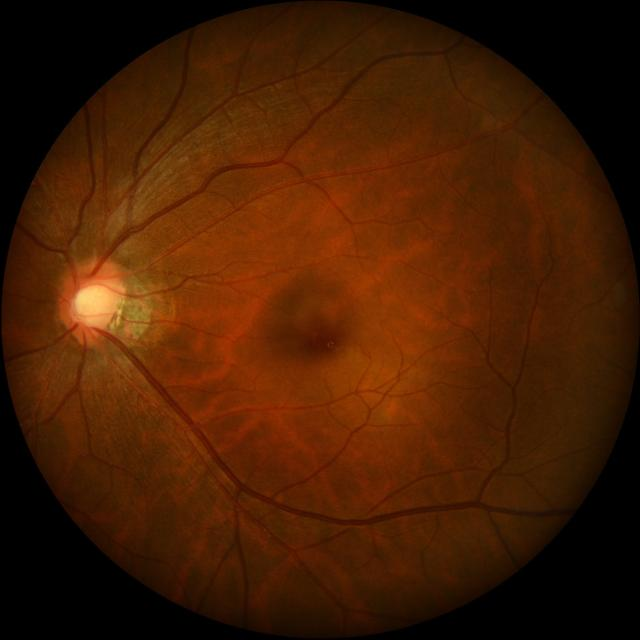OC: (74, 285, 113, 325)
OD: (58, 258, 122, 339)
